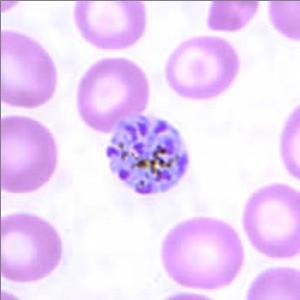Infected: (104, 113, 188, 195)
Uninfected: (161, 216, 243, 293), (78, 56, 147, 131), (165, 34, 241, 99), (0, 116, 57, 195), (0, 29, 57, 108), (0, 212, 62, 283), (244, 182, 300, 259), (73, 0, 144, 48)
